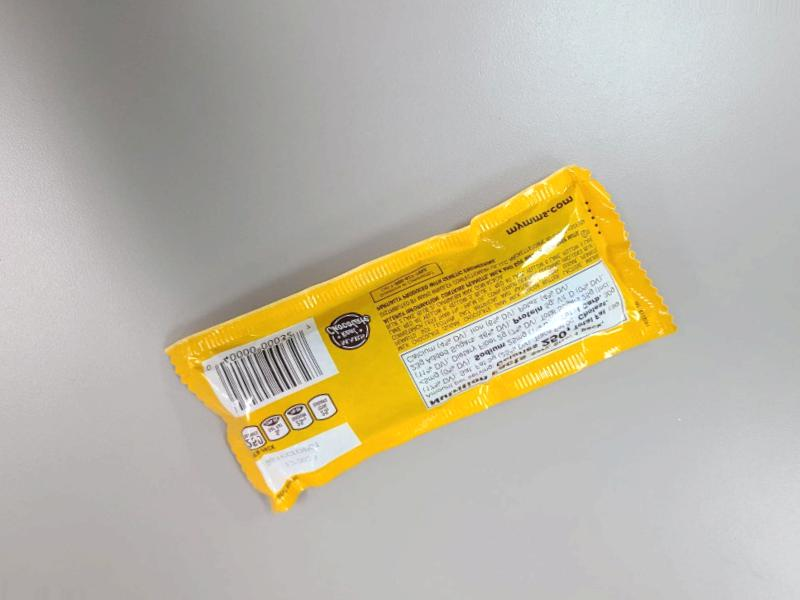m&m: (224, 285, 727, 511)
